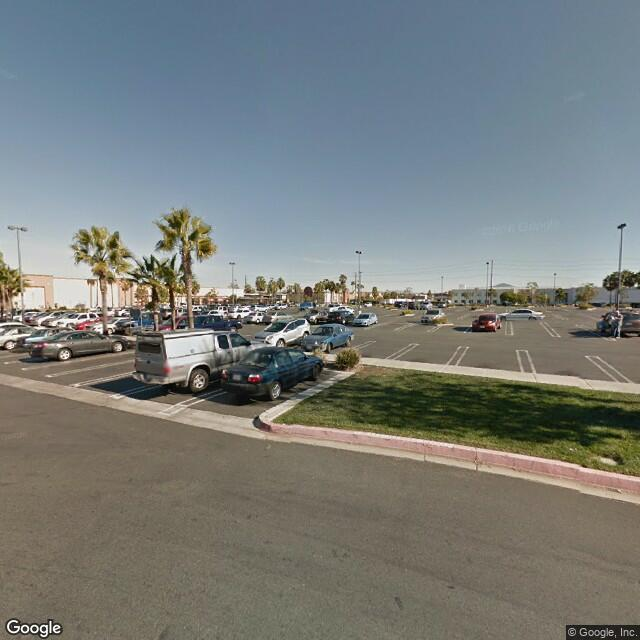litter: (612, 489, 628, 493)
